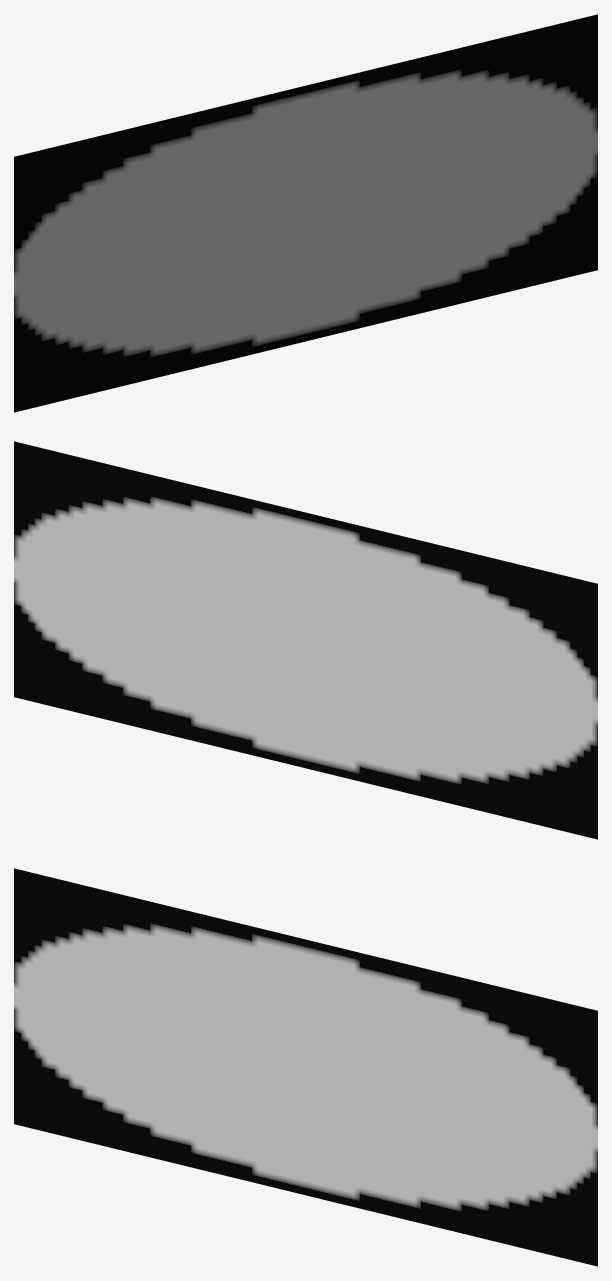
3 views of the same model, one above another, from view 1: azimuth 30°, elevation 25°; view 2: azimuth 150°, elevation 25°; view 3: azimuth 330°, elevation 25° (orthographic).
Visible parts, largest first — view 1: Joint_0_Object_0; view 2: Joint_0_Object_0; view 3: Joint_0_Object_0.
Boxes of the visible parts, bbox=[...] form: Joint_0_Object_0: bbox=[14, 14, 597, 412]; Joint_0_Object_0: bbox=[14, 441, 597, 839]; Joint_0_Object_0: bbox=[14, 868, 597, 1266].
Bounding box in the file's own units: 46.44 × 19.44 × 0.
Materials: 1 (1 with a texture image).
